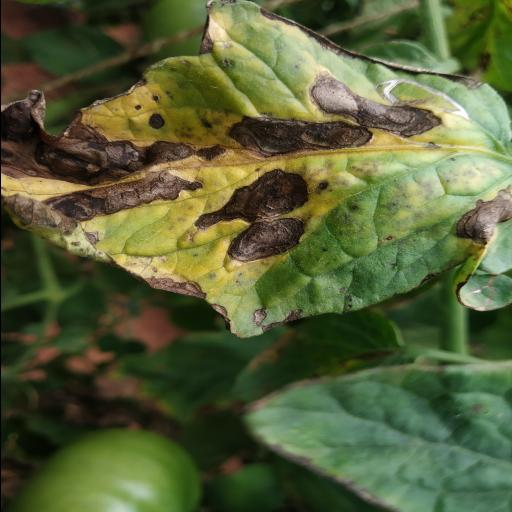disease_tomato: (0, 4, 512, 344)
